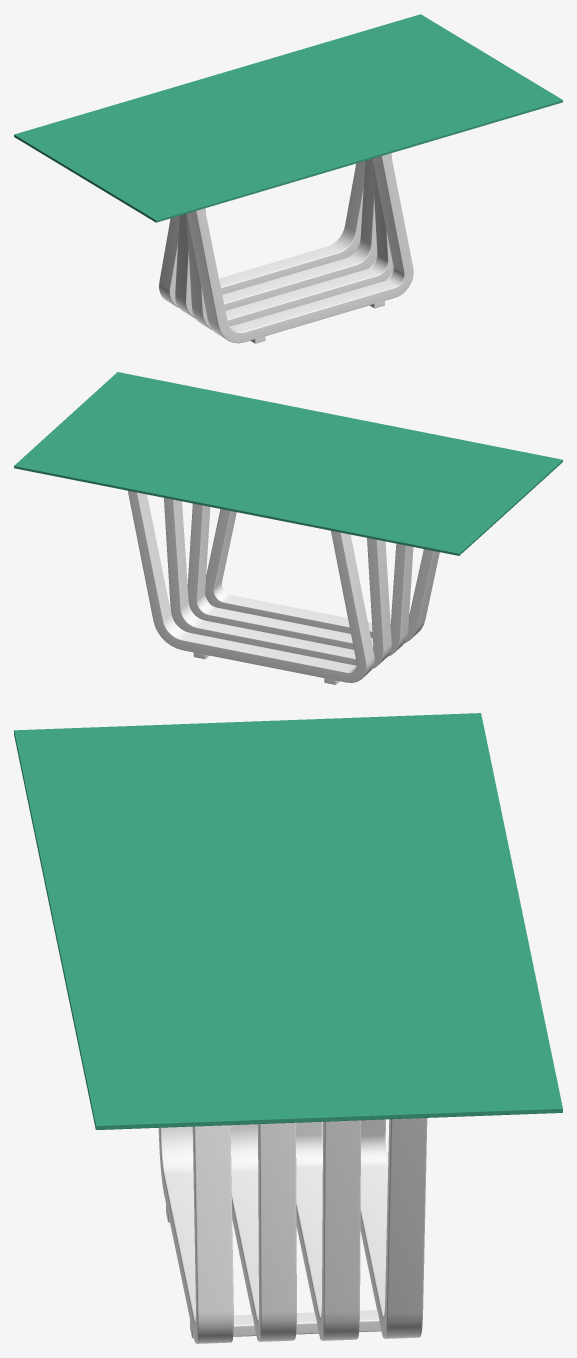
Rendered from mesita-v.1.0.glb.
The picture shows the model from 3 angles, top to bottom: view 1: azimuth 30°, elevation 25°; view 2: azimuth 150°, elevation 25°; view 3: azimuth 270°, elevation 25°; orthographic projection. The views are drawn at different scales.
Visible parts, largest first — view 1: Rectangle004, Line001, Line006, Line005, Line007; view 2: Rectangle004, Line007, Line006, Line005, Line001; view 3: Rectangle004, Line001, Line007, Line006, Line005, Rectangle003.
Part boxes in pixels (left/top/right/bottom): Rectangle004: left=14, top=14, right=562, bottom=222; Line001: left=187, top=153, right=413, bottom=343; Line006: left=175, top=159, right=377, bottom=318; Line005: left=186, top=153, right=393, bottom=330; Line007: left=159, top=161, right=365, bottom=307; Rectangle004: left=14, top=372, right=562, bottom=555; Line007: left=128, top=491, right=374, bottom=682; Line006: left=164, top=498, right=391, bottom=668; Line005: left=187, top=503, right=413, bottom=656; Line001: left=205, top=509, right=439, bottom=643; Rectangle004: left=14, top=713, right=562, bottom=1129; Line001: left=158, top=1125, right=233, bottom=1343; Line007: left=360, top=1118, right=427, bottom=1338; Line006: left=296, top=1120, right=361, bottom=1340; Line005: left=230, top=1122, right=296, bottom=1341; Rectangle003: left=190, top=1310, right=381, bottom=1338.
Bounding box in the file's own units: 1872 × 749 × 1052.
